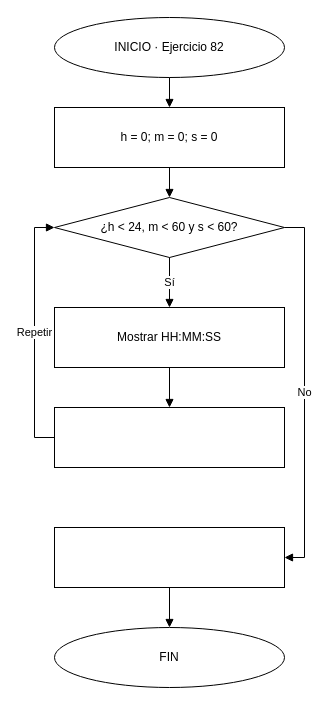
Image size: 330x705. Some labels were removed from this diagram. The shapes that lost their labels are listed below. From the top down, each one's centre as x and y in pixels, then its label:
At point (169, 437): "Incrementar s; ajustar m y h".
At point (169, 557): "Mostrar resultado final / terminar el proceso".
